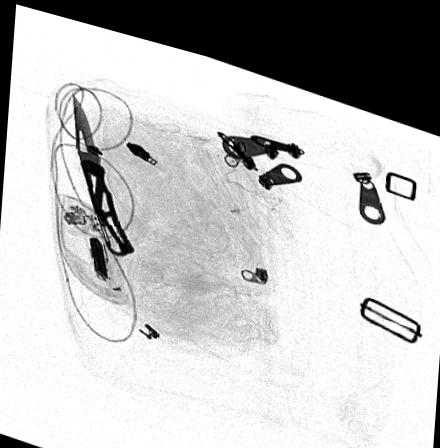Knife: (71, 86, 135, 250)
